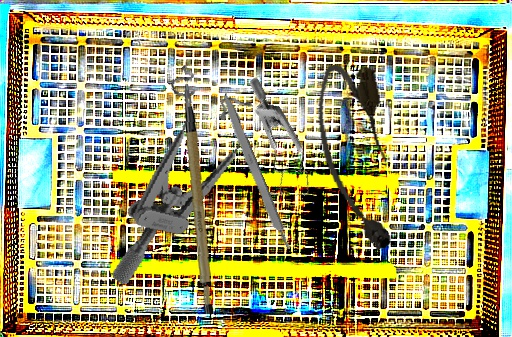Cannula: (309, 59, 404, 256)
Scalpel Handle: (171, 83, 230, 315), (217, 91, 293, 253)
Speculum: (110, 56, 258, 306), (202, 75, 346, 214)
